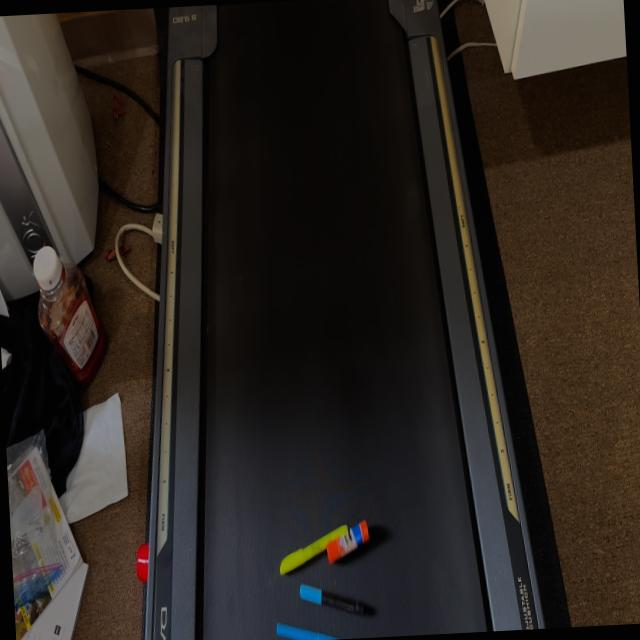Trash: (272, 522, 389, 640)
